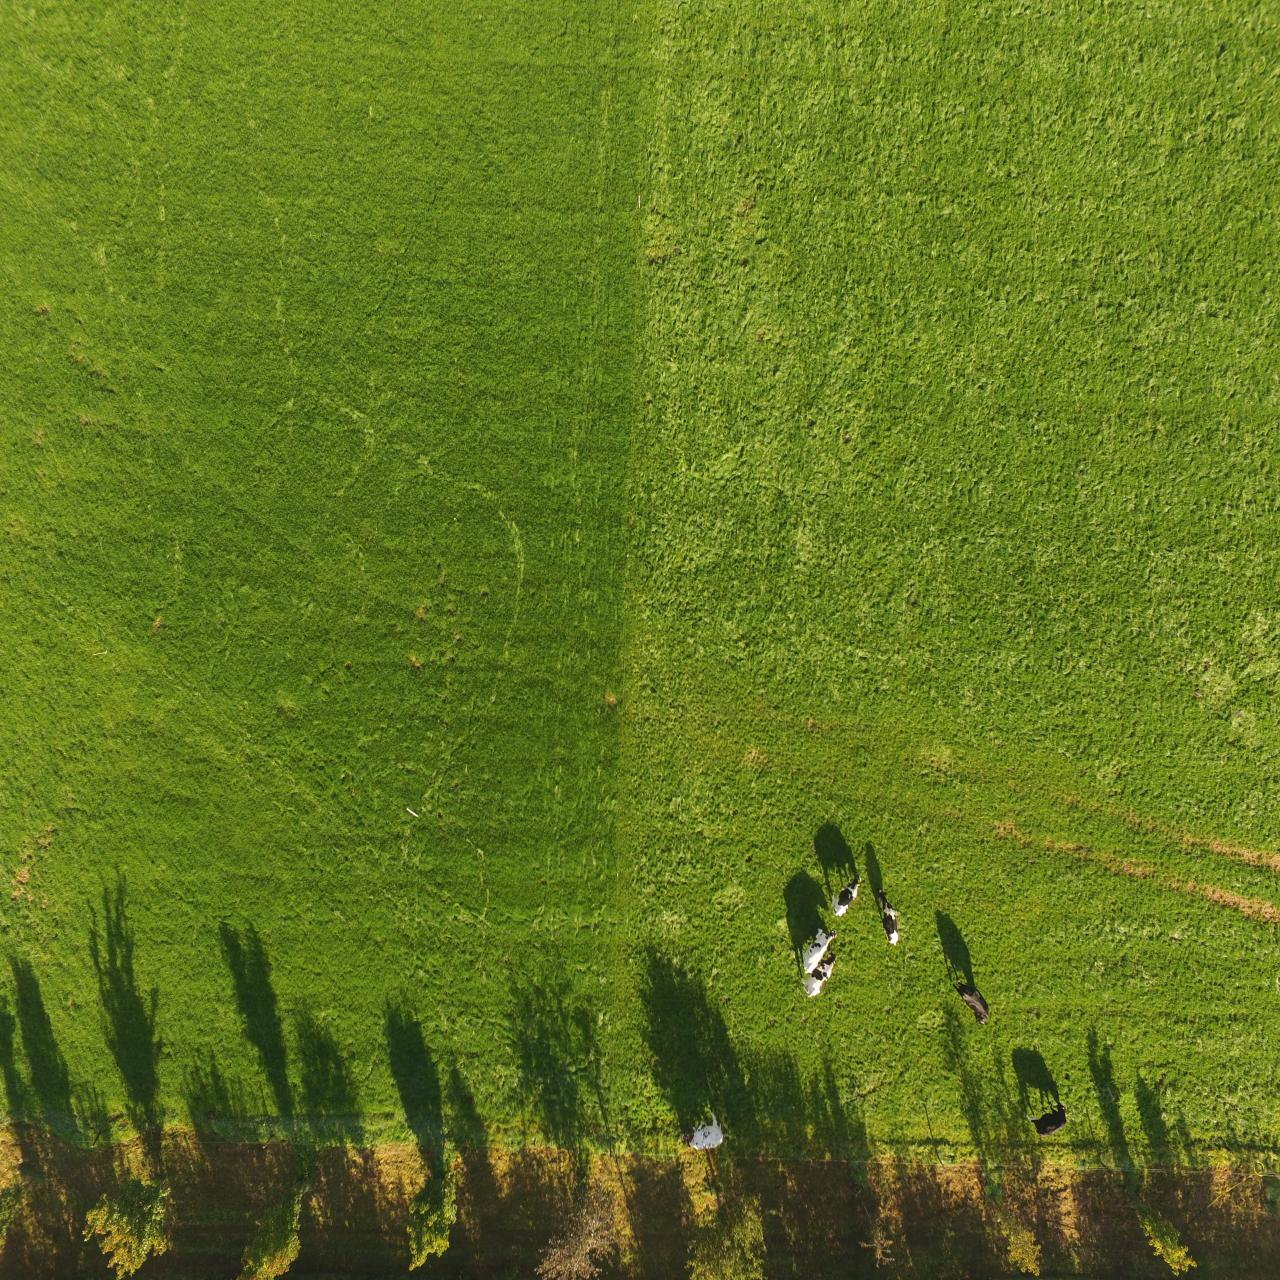cow: (796, 926, 838, 974), (681, 1105, 723, 1152), (952, 978, 993, 1026), (829, 874, 866, 921), (805, 946, 836, 998), (1026, 1101, 1068, 1137), (877, 885, 899, 949)
